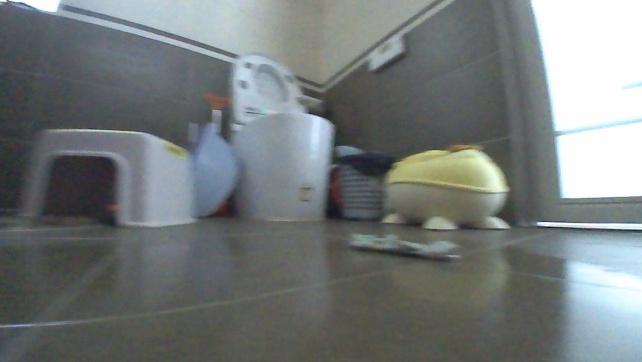toilet: (218, 45, 334, 228)
